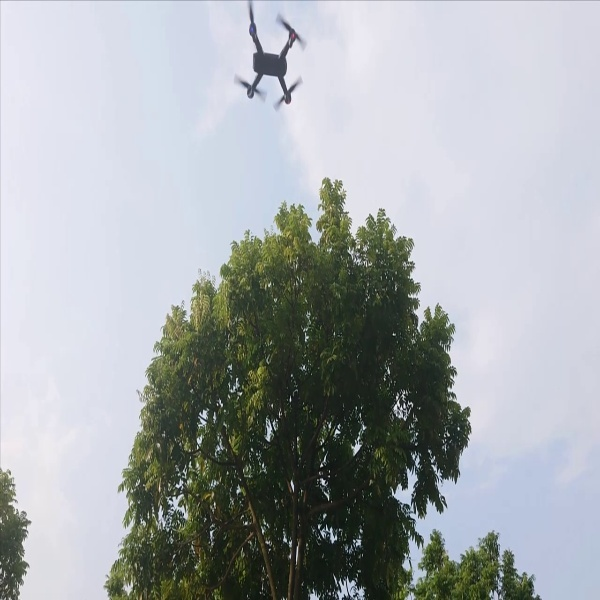drone: (224, 1, 309, 113)
